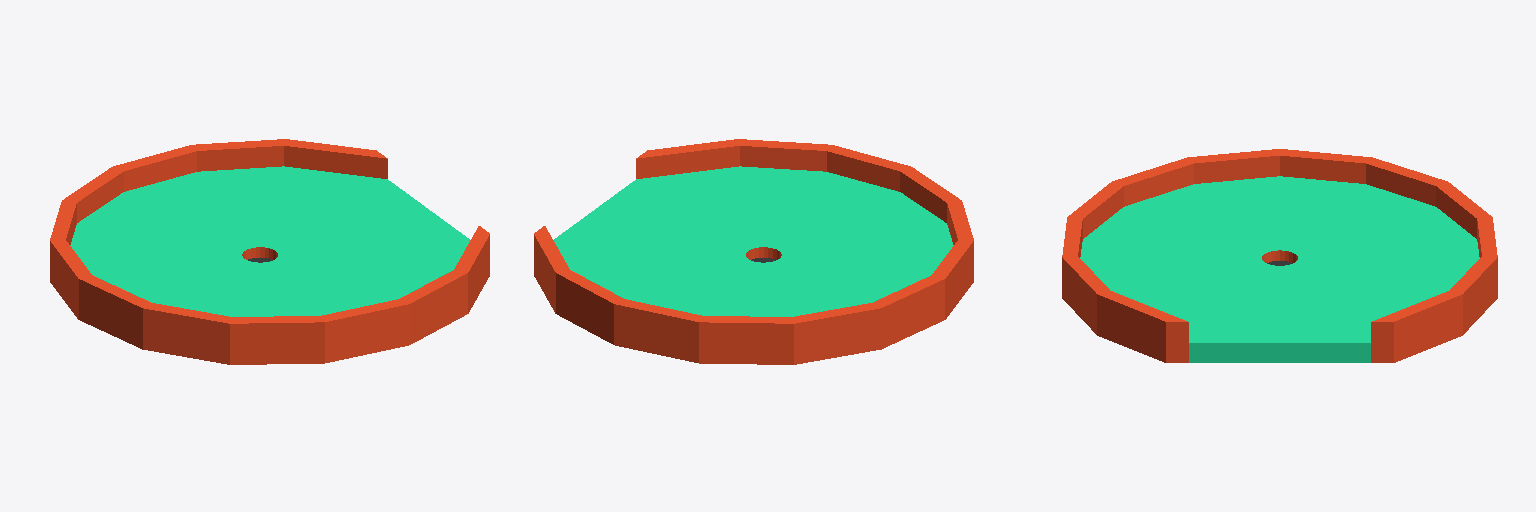
File: PH_Lighthouse_Course_Part2.obj
3 renders of one model, left to right at view 1: azimuth 30°, elevation 25°; view 2: azimuth 150°, elevation 25°; view 3: azimuth 270°, elevation 25°, orthographic.
Size of the model in its own units: 1.8 by 0.2 by 1.91.